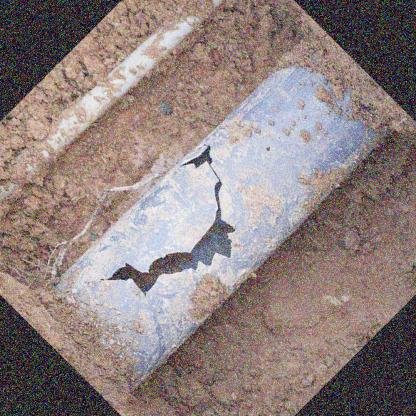burst: (109, 145, 238, 304)
